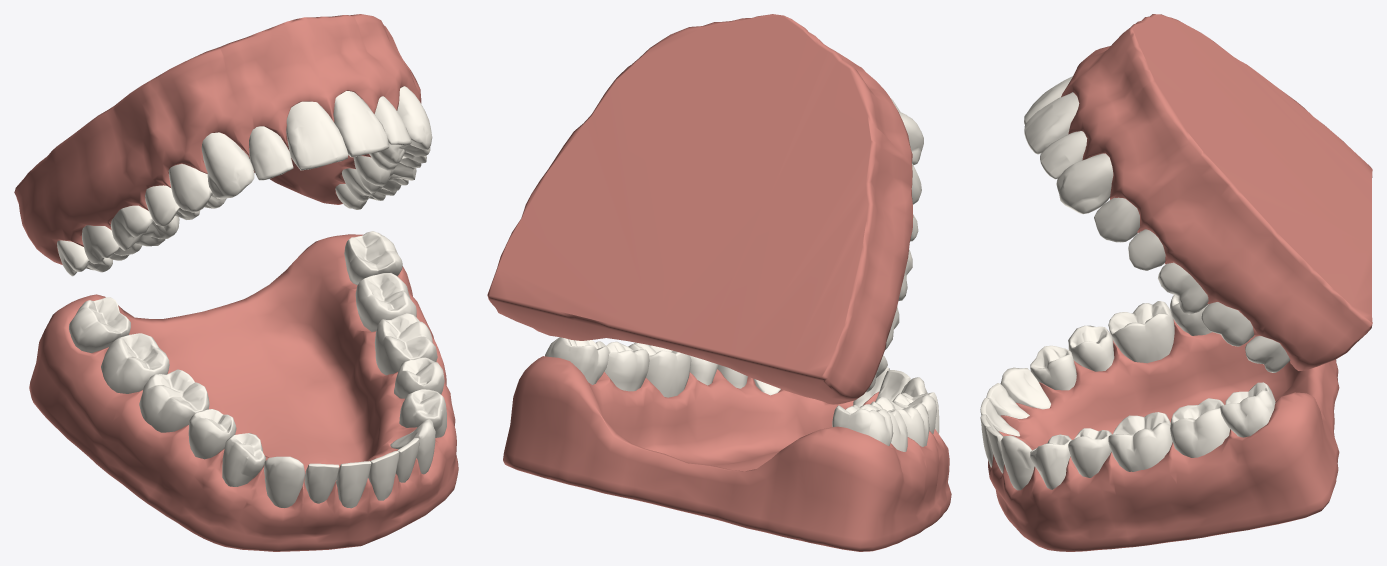
File: teeth 3d model.glb
The picture shows the model from 3 angles, left to right: view 1: azimuth 30°, elevation 25°; view 2: azimuth 150°, elevation 25°; view 3: azimuth 270°, elevation 25°; orthographic projection. The views are drawn at different scales.
Parts seen in each view (by area): view 1: lowgums, upgums, rmolar1l, rcentinc, rmolar2l, lmolar1l, rcanine, lcentinc, rmolar3l, lmolar2l, lmolar3l, rmolar1 (+21 smaller); view 2: upgums, lowgums, lmolar1l, lmolar2l, lmolar3l, rmolar3l, rmolar1l, rmolar2l, rlatinl, rcanine, rprem2l, lprem2l; view 3: upgums, lowgums, rmolar1l, lmolar1l, lmolar2l, lcanine, lmolar3l, lcentinc, rprem2l, rprem1l, lpremol1, lprem2l (+12 smaller).
Part boxes in pixels (box(x1,y1,x2,y2)): lowgums: box(29, 234, 458, 551); upgums: box(14, 14, 421, 264); rmolar1l: box(139, 369, 209, 432); rcentinc: box(286, 101, 348, 170); rmolar2l: box(101, 333, 169, 393); lmolar1l: box(374, 313, 437, 375); rcanine: box(201, 132, 254, 199); lcentinc: box(333, 91, 389, 157); rmolar3l: box(69, 297, 130, 352); lmolar2l: box(355, 273, 416, 331); lmolar3l: box(344, 231, 402, 284); rmolar1: box(110, 205, 179, 250); upgums: box(487, 14, 913, 404); lowgums: box(503, 356, 951, 551); lmolar1l: box(628, 342, 691, 397); lmolar2l: box(596, 341, 649, 391); lmolar3l: box(545, 337, 609, 384); rmolar3l: box(832, 405, 893, 445); rmolar1l: box(870, 396, 929, 446); rmolar2l: box(852, 404, 907, 451); rlatinl: box(875, 370, 910, 402); rcanine: box(899, 112, 923, 165); rprem2l: box(892, 393, 936, 434); lprem2l: box(690, 355, 718, 385); upgums: box(1061, 14, 1372, 370); lowgums: box(988, 319, 1339, 551); rmolar1l: box(1108, 301, 1174, 363); lmolar1l: box(1108, 412, 1172, 471); lmolar2l: box(1170, 398, 1229, 457); lcanine: box(1056, 153, 1113, 214); lmolar3l: box(1220, 382, 1275, 437); lcentinc: box(1024, 92, 1079, 154); rprem2l: box(1068, 325, 1114, 371); rprem1l: box(1030, 345, 1076, 390); lpremol1: box(1094, 197, 1139, 242); lprem2l: box(1068, 428, 1111, 477).
Size of the model in its own units: 1.58 by 2.03 by 1.52.
